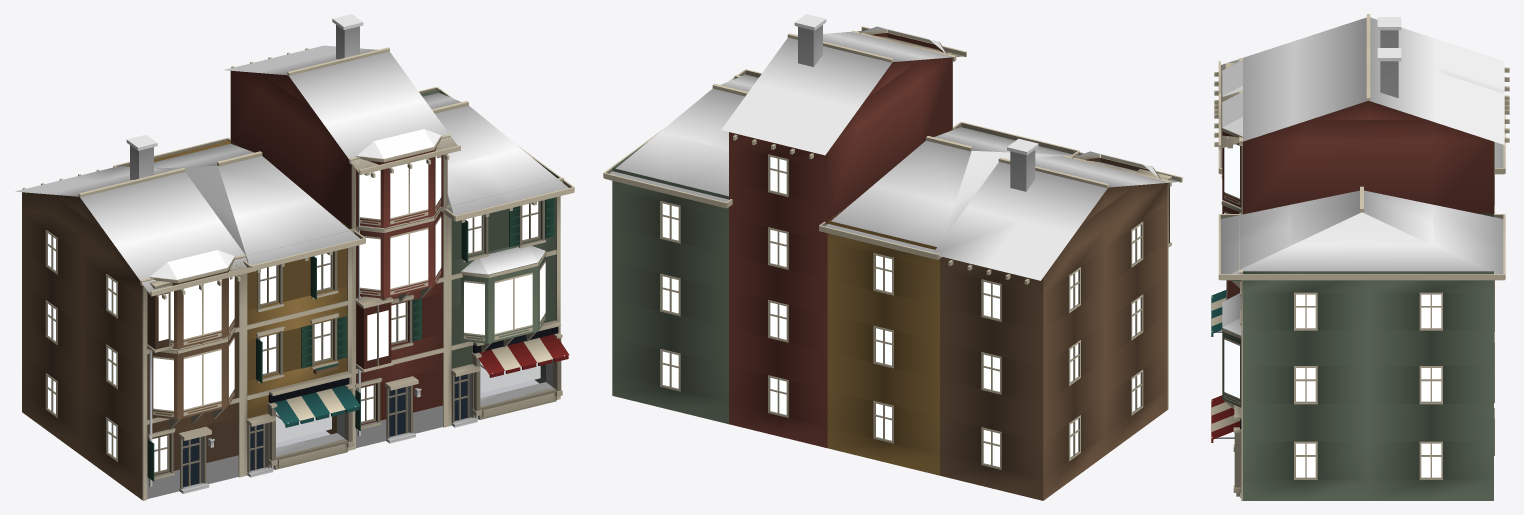
Rendered from bld_ahsap_row_b.glb.
3 renders of one model, left to right at view 1: azimuth 30°, elevation 25°; view 2: azimuth 150°, elevation 25°; view 3: azimuth 270°, elevation 25°, orthographic. The views are drawn at different scales.
Parts seen in each view (by area): view 1: LOD0; view 2: LOD0; view 3: LOD0.
Boxes of the visible parts, x1=… form: LOD0: x1=15, y1=14, x2=574, y2=500; LOD0: x1=603, y1=14, x2=1182, y2=500; LOD0: x1=1211, y1=14, x2=1509, y2=500.
Size of what is drawn, in the model's own units: 19.48 by 15.87 by 11.42.
